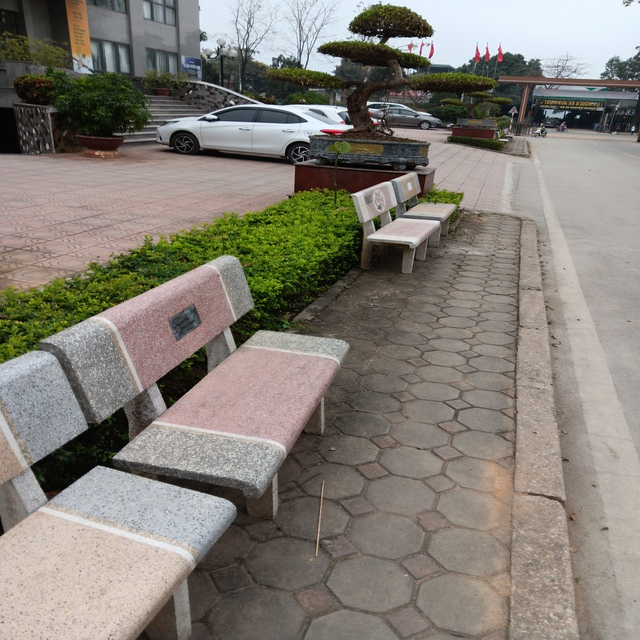gheda: (48, 249, 353, 520), (2, 343, 245, 640), (341, 183, 435, 280), (388, 168, 465, 252)
